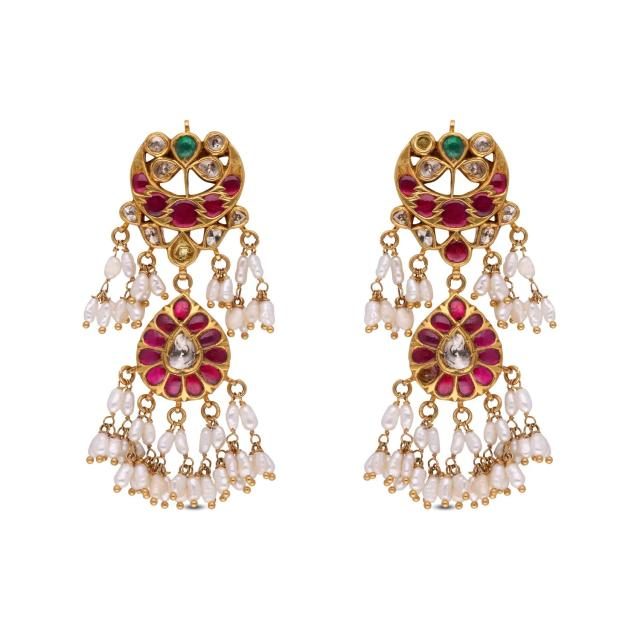missing gem: (172, 235, 195, 261), (420, 364, 442, 384), (417, 134, 433, 150)
